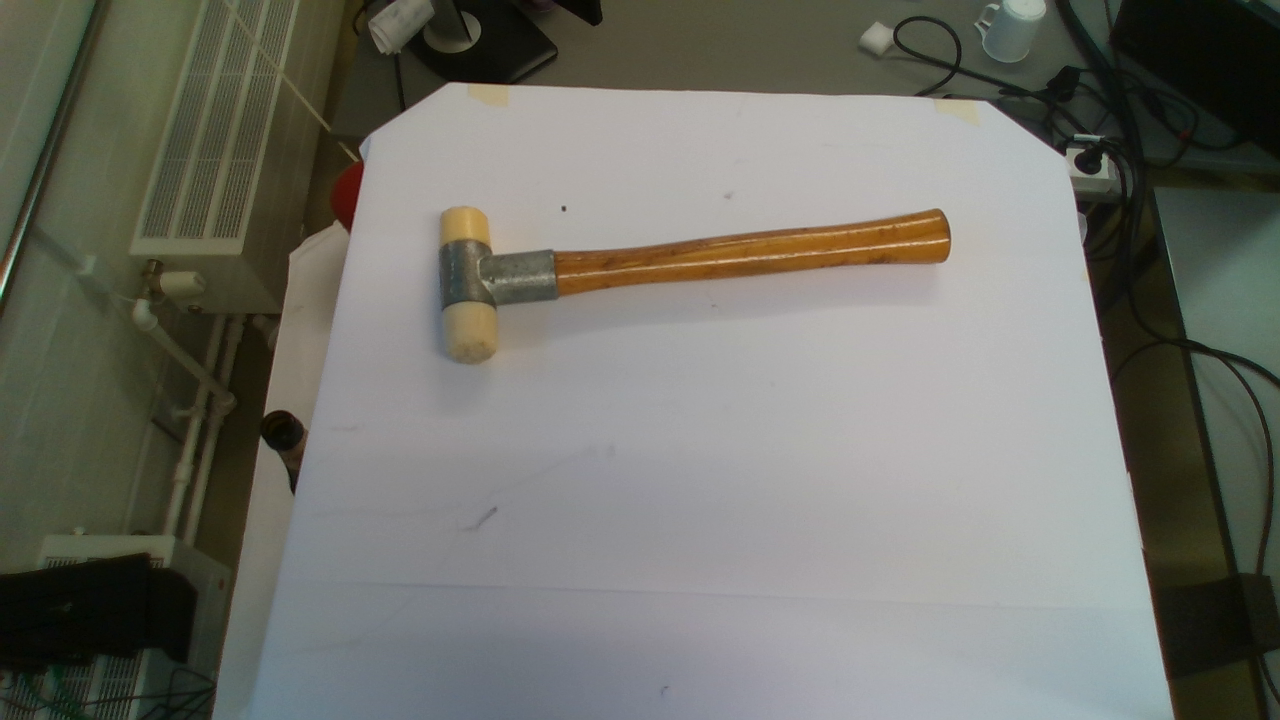hammer: (419, 195, 951, 366)
